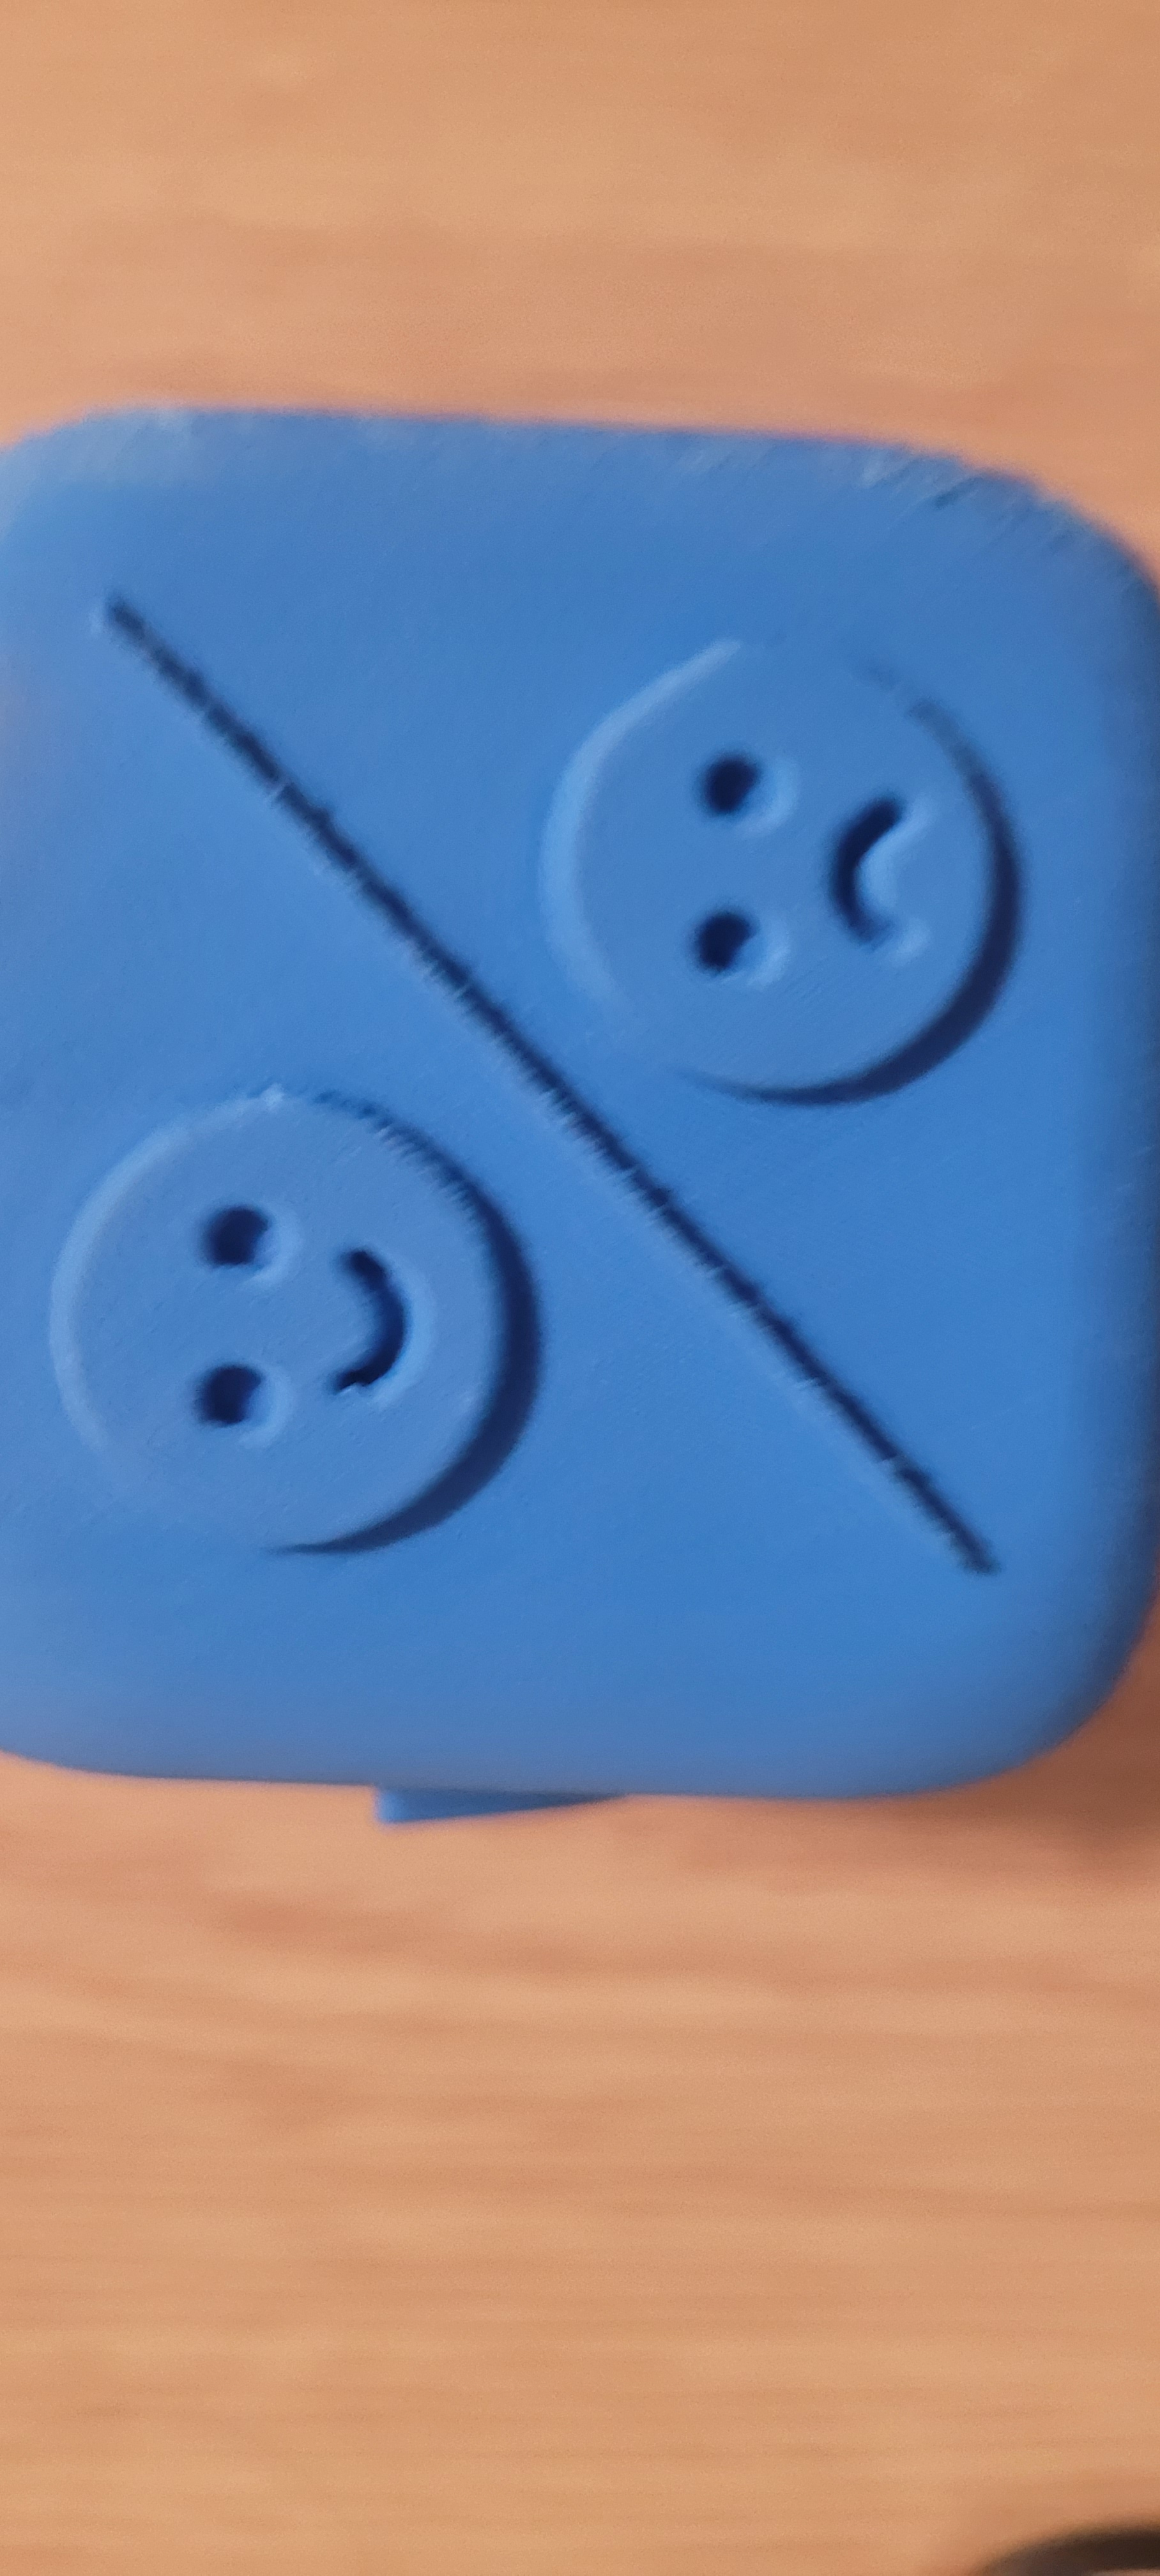Like/Dislike: (0, 483, 1152, 1778)
